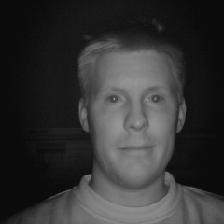normal: (72, 25, 195, 205)
